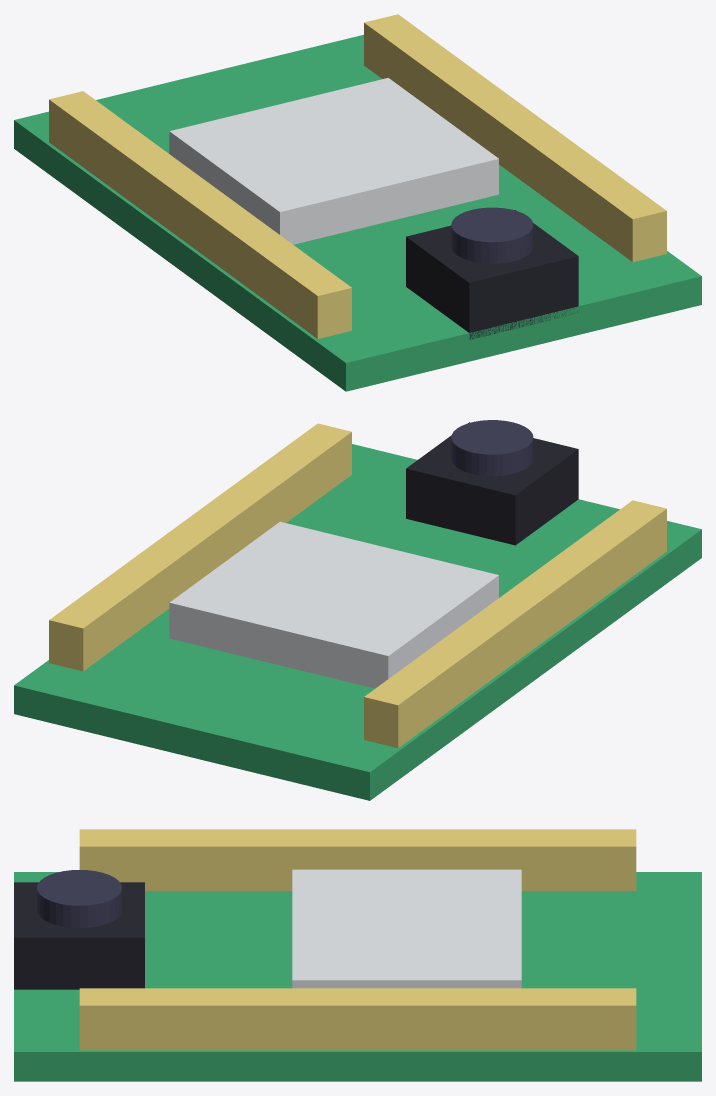
Rendered from esp32_p.glb.
3 renders of one model, top to bottom at view 1: azimuth 30°, elevation 25°; view 2: azimuth 150°, elevation 25°; view 3: azimuth 270°, elevation 25°, orthographic. The views are drawn at different scales.
Visible parts, largest first — view 1: ESP32; view 2: ESP32; view 3: ESP32.
Boxes of the visible parts, x1=… form: ESP32: x1=14, y1=14, x2=701, y2=391; ESP32: x1=14, y1=420, x2=701, y2=800; ESP32: x1=14, y1=829, x2=701, y2=1081.
Size of the model in its own units: 26 by 7 by 42.
